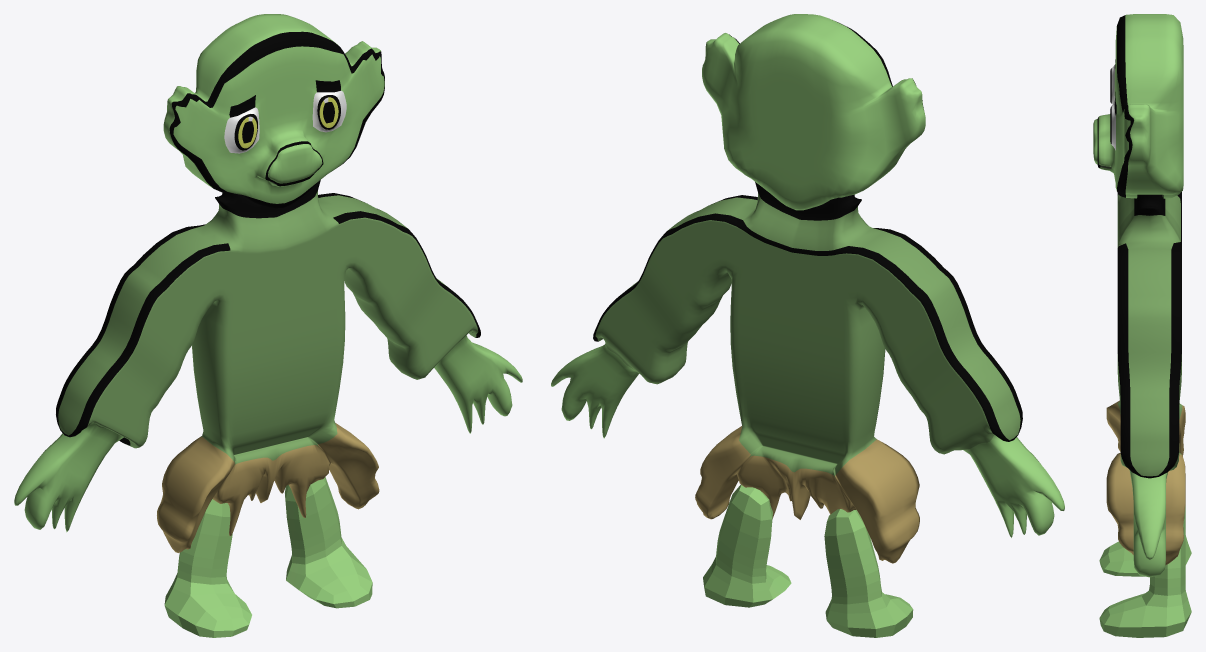
File: Goblin1.fbx
3 renders of one model, left to right at view 1: azimuth 30°, elevation 25°; view 2: azimuth 150°, elevation 25°; view 3: azimuth 270°, elevation 25°, orthographic. The views are drawn at different scales.
Parts seen in each view (by area): view 1: goblin; view 2: goblin; view 3: goblin.
Part boxes in pixels (x1,y1,x2,y2): goblin: (14, 14, 522, 637); goblin: (551, 14, 1064, 637); goblin: (1093, 14, 1191, 637).
Bounding box in the file's own units: 424 × 465 × 72.26.
Materials: 3 (1 with a texture image).
